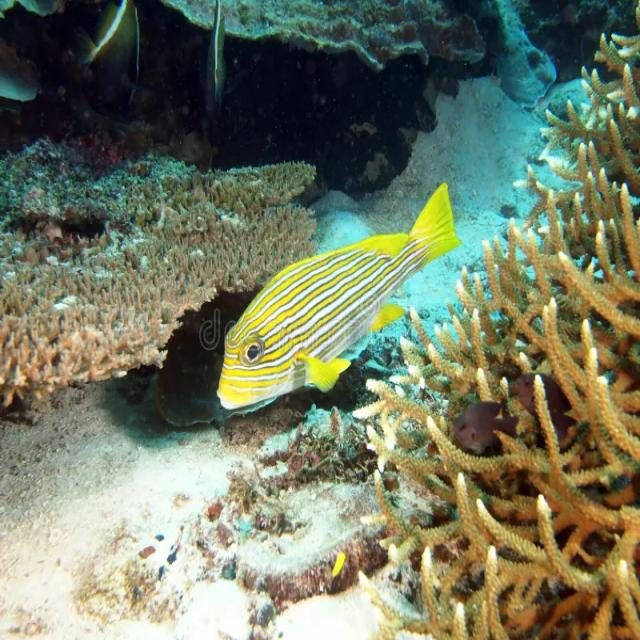RibbonedSweetlips: (215, 180, 462, 413)
